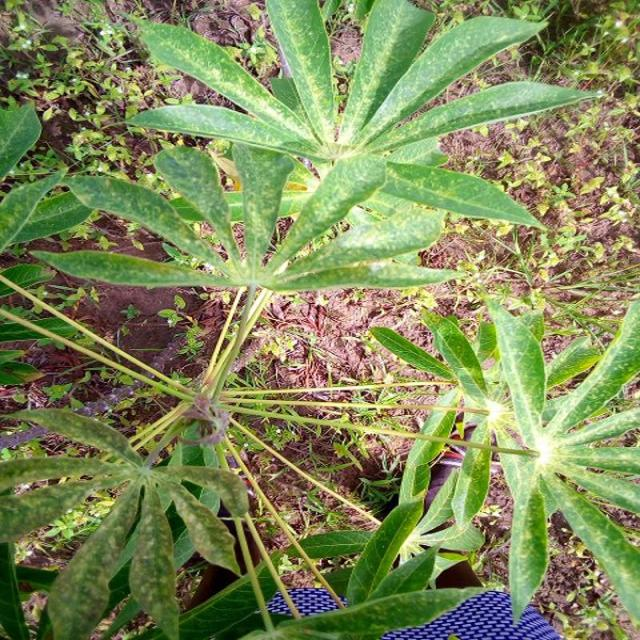cassava leaf: (1, 0, 603, 637), (369, 292, 638, 630)
